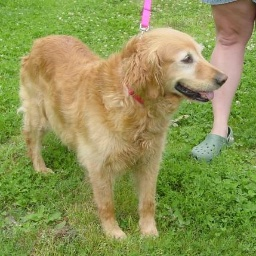dog: (17, 29, 228, 245)
